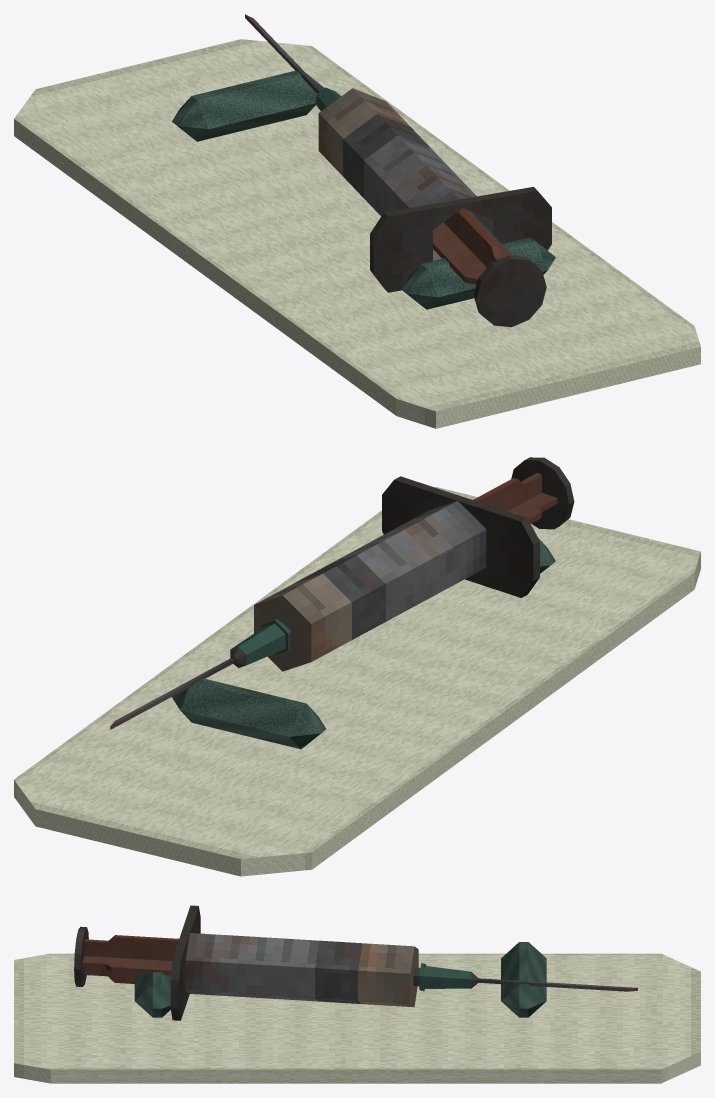
Rendered from blender_sanity_medication_3.glb.
3 renders of one model, top to bottom at view 1: azimuth 30°, elevation 25°; view 2: azimuth 150°, elevation 25°; view 3: azimuth 270°, elevation 25°, orthographic. The views are drawn at different scales.
Visible parts, largest first — view 1: blender_sanity_medication_3; view 2: blender_sanity_medication_3; view 3: blender_sanity_medication_3.
Part boxes in pixels (x1,y1,x2,y2): blender_sanity_medication_3: (14,14,700,428); blender_sanity_medication_3: (14,457,700,876); blender_sanity_medication_3: (14,905,700,1083).
Bounding box in the file's own units: 0.09 × 0.0335 × 0.225.
Materials: 3 (3 with a texture image).
